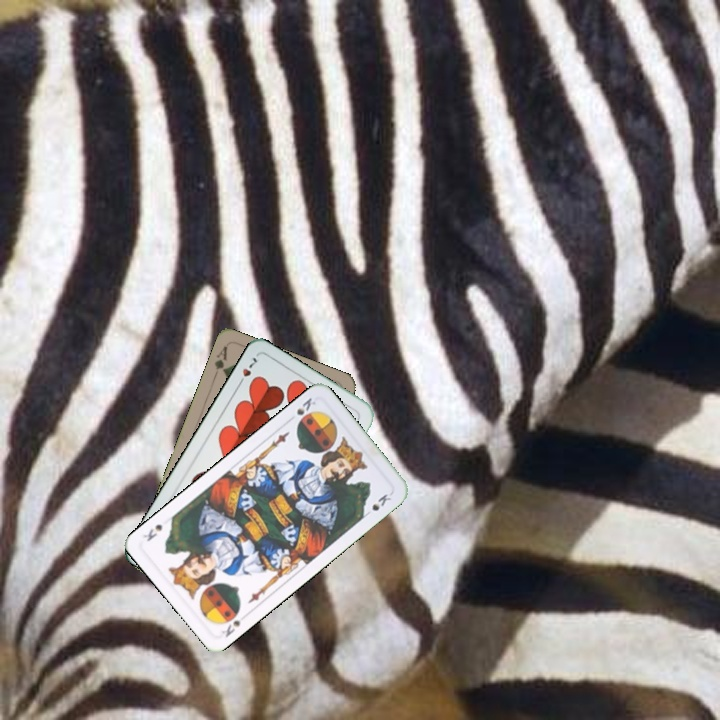GA: (209, 342, 230, 381)
H7: (233, 353, 260, 389)
SK: (292, 393, 318, 418), (217, 616, 244, 640)
